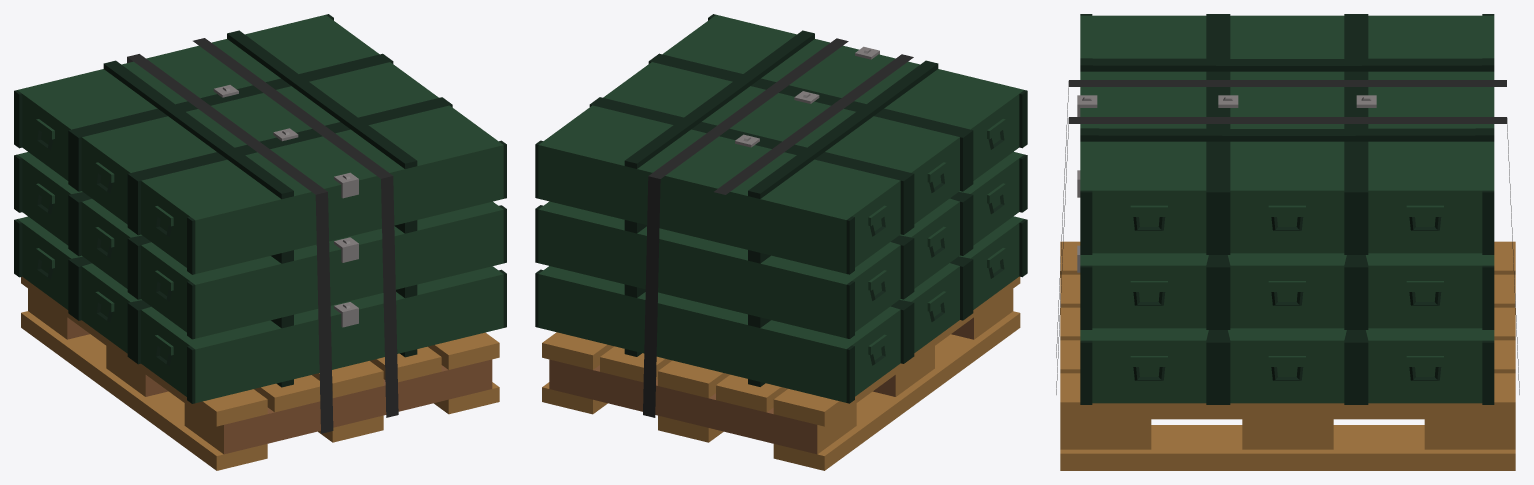
Rendered from weapons-creates-army-stack.glb.
The picture shows the model from 3 angles, left to right: view 1: azimuth 30°, elevation 25°; view 2: azimuth 150°, elevation 25°; view 3: azimuth 270°, elevation 25°; orthographic projection. The views are drawn at different scales.
Parts seen in each view (by area): view 1: creates-army-stack; view 2: creates-army-stack; view 3: creates-army-stack.
Part boxes in pixels (box(x1,y1,x2,y2)): creates-army-stack: box(14, 14, 506, 470); creates-army-stack: box(535, 14, 1027, 470); creates-army-stack: box(1056, 14, 1519, 470).
Size of the model in its own units: 1.23 by 0.9397 by 1.34.
